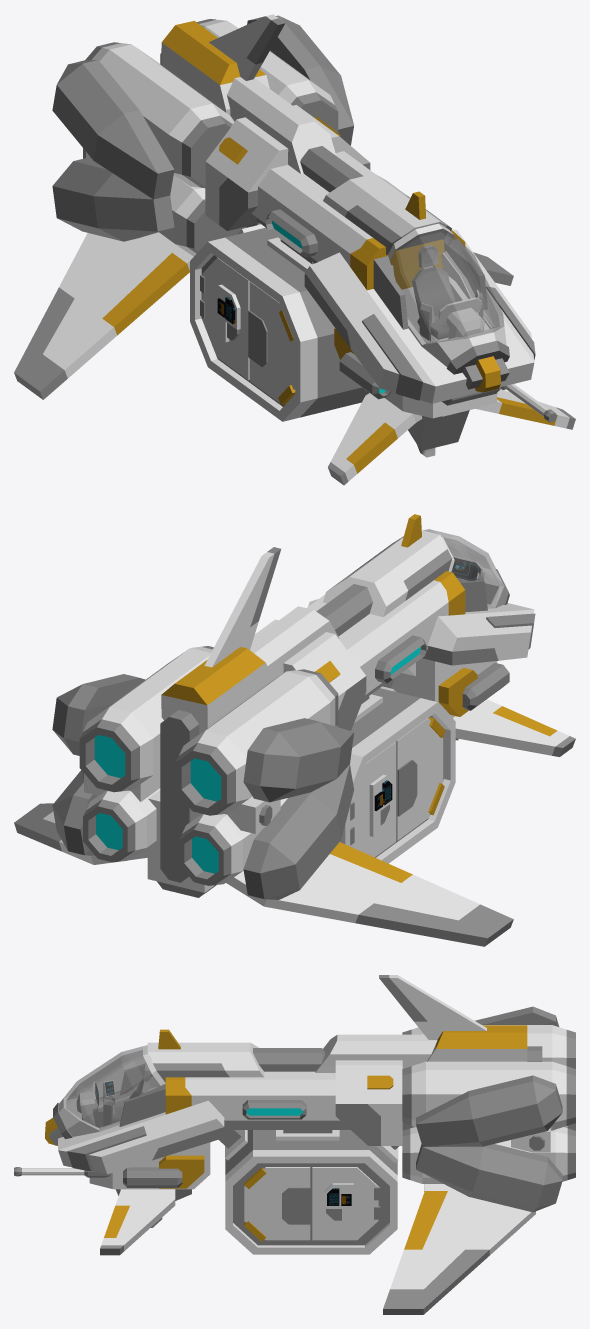
Rendered from SM_SpaceshipM_Cargo01.fbx.
The picture shows the model from 3 angles, top to bottom: view 1: azimuth 30°, elevation 25°; view 2: azimuth 150°, elevation 25°; view 3: azimuth 270°, elevation 25°; orthographic projection. The views are drawn at different scales.
Visible parts, largest first — view 1: SM_SpaceshipM_Cargo01_Body, SM_SpaceshipM_Cargo01_Load, SM_SpaceshipM_Cargo01_Cockpit, SM_SpaceshipM_Cargo01_Glass; view 2: SM_SpaceshipM_Cargo01_Body, SM_SpaceshipM_Cargo01_Load, SM_SpaceshipM_Cargo01_Cockpit, SM_SpaceshipM_Cargo01_Glass; view 3: SM_SpaceshipM_Cargo01_Body, SM_SpaceshipM_Cargo01_Load, SM_SpaceshipM_Cargo01_Cockpit, SM_SpaceshipM_Cargo01_Glass.
Part boxes in pixels (bbox=[...]): SM_SpaceshipM_Cargo01_Body: bbox=[14, 14, 575, 485]; SM_SpaceshipM_Cargo01_Load: bbox=[190, 227, 368, 421]; SM_SpaceshipM_Cargo01_Cockpit: bbox=[373, 223, 509, 392]; SM_SpaceshipM_Cargo01_Glass: bbox=[390, 228, 504, 344]; SM_SpaceshipM_Cargo01_Body: bbox=[14, 514, 575, 946]; SM_SpaceshipM_Cargo01_Load: bbox=[340, 688, 455, 863]; SM_SpaceshipM_Cargo01_Cockpit: bbox=[441, 536, 509, 612]; SM_SpaceshipM_Cargo01_Glass: bbox=[423, 529, 504, 606]; SM_SpaceshipM_Cargo01_Body: bbox=[14, 975, 575, 1314]; SM_SpaceshipM_Cargo01_Load: bbox=[225, 1130, 397, 1254]; SM_SpaceshipM_Cargo01_Cockpit: bbox=[45, 1045, 165, 1145]; SM_SpaceshipM_Cargo01_Glass: bbox=[64, 1046, 160, 1129].
Bounding box in the file's own units: 746 × 483 × 982.
